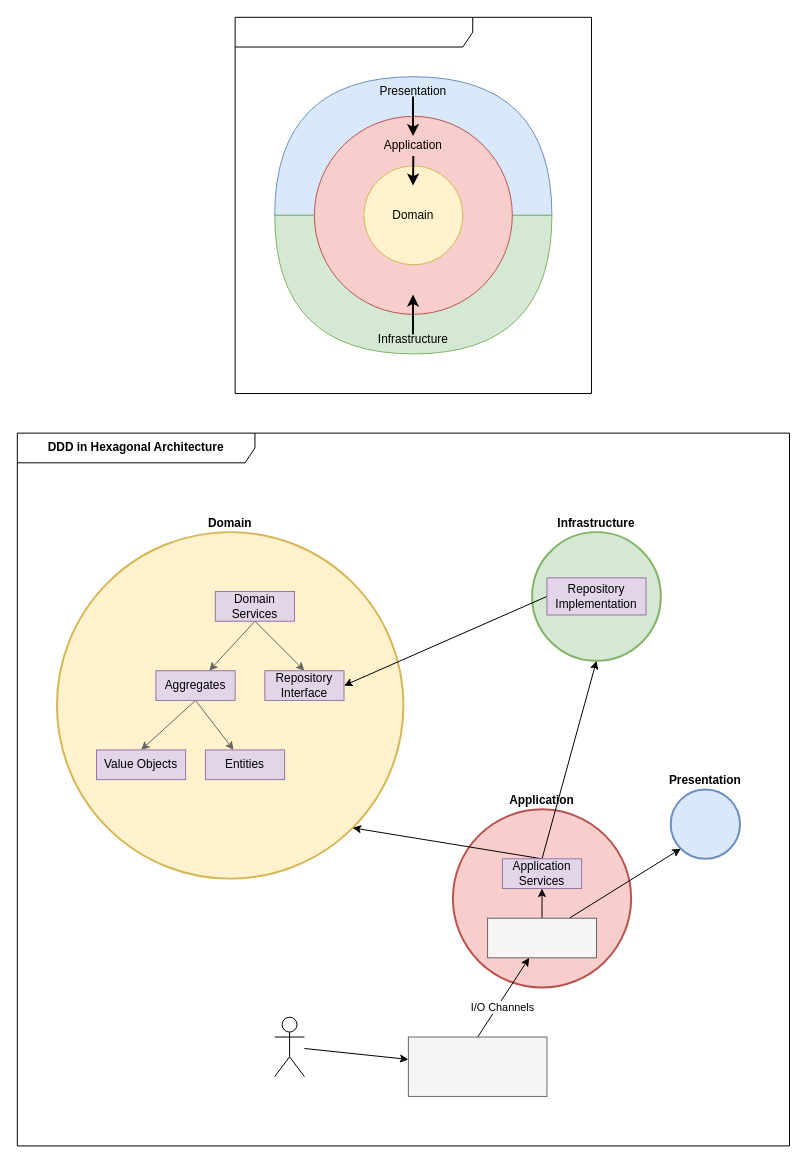
Some shapes in this 807 by 1163 pixel diagram are drawn without their labels. Each missing label, with the centre of its shape:
"Actor" goes at (x=289, y=1046).
"Command & Query HTTP Requests Message, etc" goes at (x=477, y=1066).
"Controllers or Handlers" goes at (x=541, y=937).
"Hexagonal Architecture Layers" goes at (x=413, y=205).
